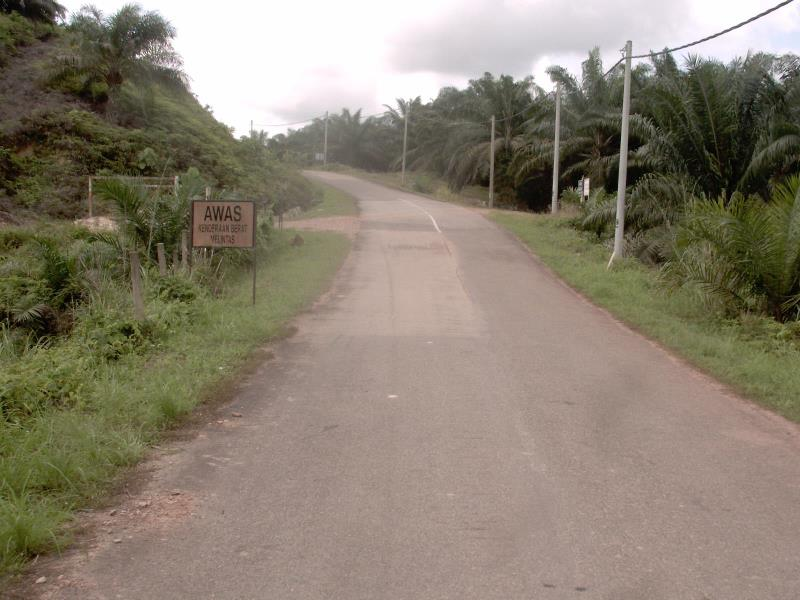ads_sign: (182, 190, 262, 259)
